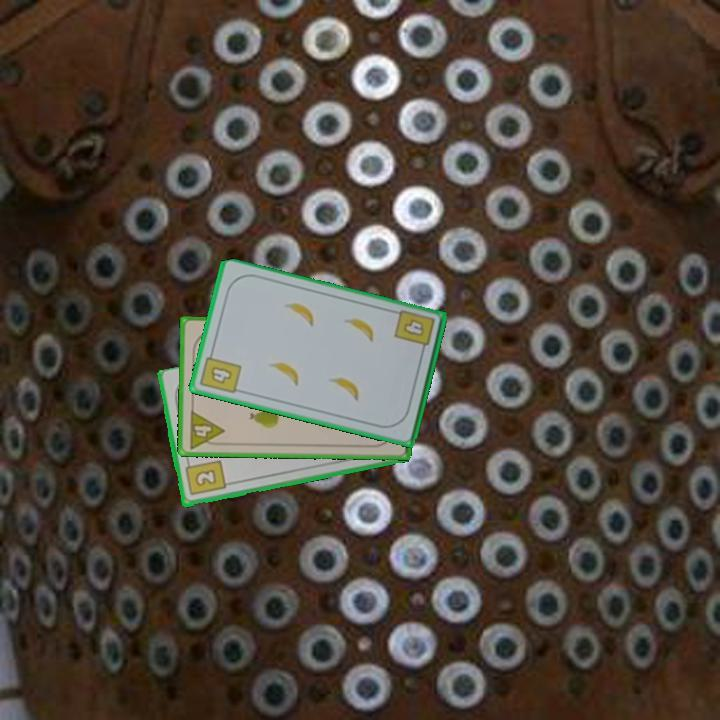2b: (181, 457, 228, 499)
4b: (197, 347, 244, 397), (391, 306, 437, 357)
4p: (185, 407, 227, 451)
